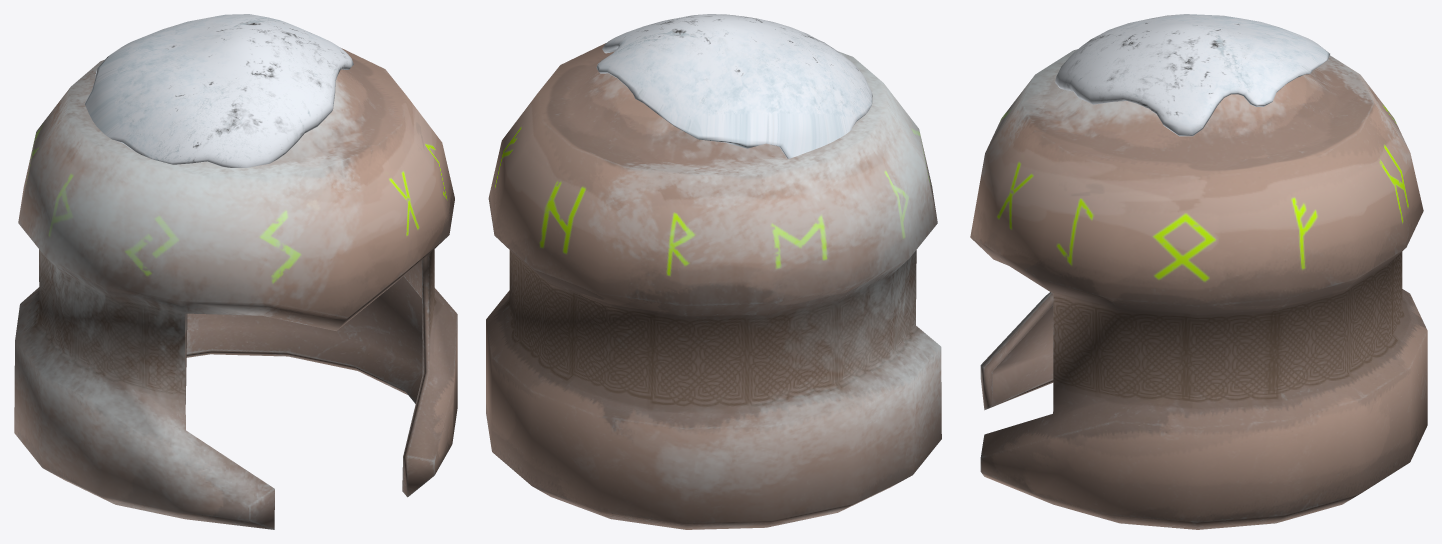
Rendered from helm2.fbx.
3 renders of one model, left to right at view 1: azimuth 30°, elevation 25°; view 2: azimuth 150°, elevation 25°; view 3: azimuth 270°, elevation 25°, orthographic. The views are drawn at different scales.
Visible parts, largest first — view 1: Helmet2, snowhelm; view 2: Helmet2, snowhelm; view 3: Helmet2, snowhelm.
Part boxes in pixels (<box>): Helmet2: <box>14,48,457,529</box>; snowhelm: <box>85,14,353,167</box>; Helmet2: <box>486,43,941,529</box>; snowhelm: <box>596,14,872,158</box>; Helmet2: <box>970,49,1427,529</box>; snowhelm: <box>1055,14,1329,136</box>.
Bounding box in the file's own units: 22 × 21.99 × 21.98.
